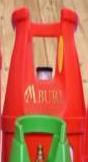cylinder: (1, 1, 88, 162)
